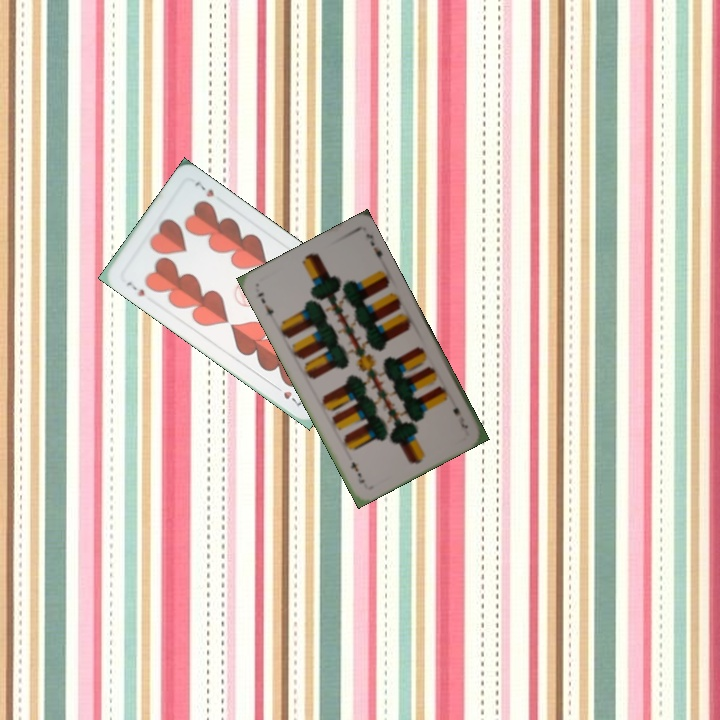E7: (254, 288, 277, 318), (449, 403, 471, 431)
H7: (122, 277, 148, 299)
